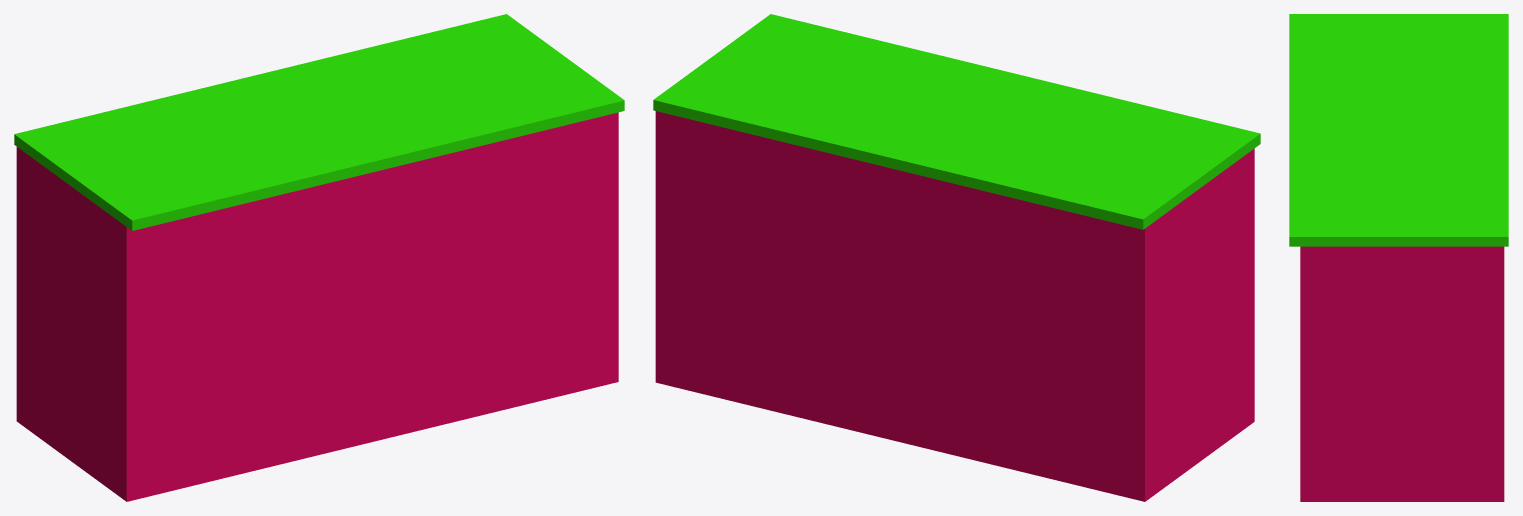
File: Kitchen_Cupboard_11B_Lod0.fbx
The picture shows the model from 3 angles, left to right: view 1: azimuth 30°, elevation 25°; view 2: azimuth 150°, elevation 25°; view 3: azimuth 270°, elevation 25°; orthographic projection. The views are drawn at different scales.
Visible parts, largest first — view 1: Kitchen_Cupboard_11B_Lod0; view 2: Kitchen_Cupboard_11B_Lod0; view 3: Kitchen_Cupboard_11B_Lod0.
Boxes of the visible parts, box(x1,y1,x2,y2) form: Kitchen_Cupboard_11B_Lod0: box(14, 14, 624, 501); Kitchen_Cupboard_11B_Lod0: box(653, 14, 1260, 501); Kitchen_Cupboard_11B_Lod0: box(1289, 14, 1508, 501).
Size of the model in its own units: 168 by 93.09 by 69.72.
